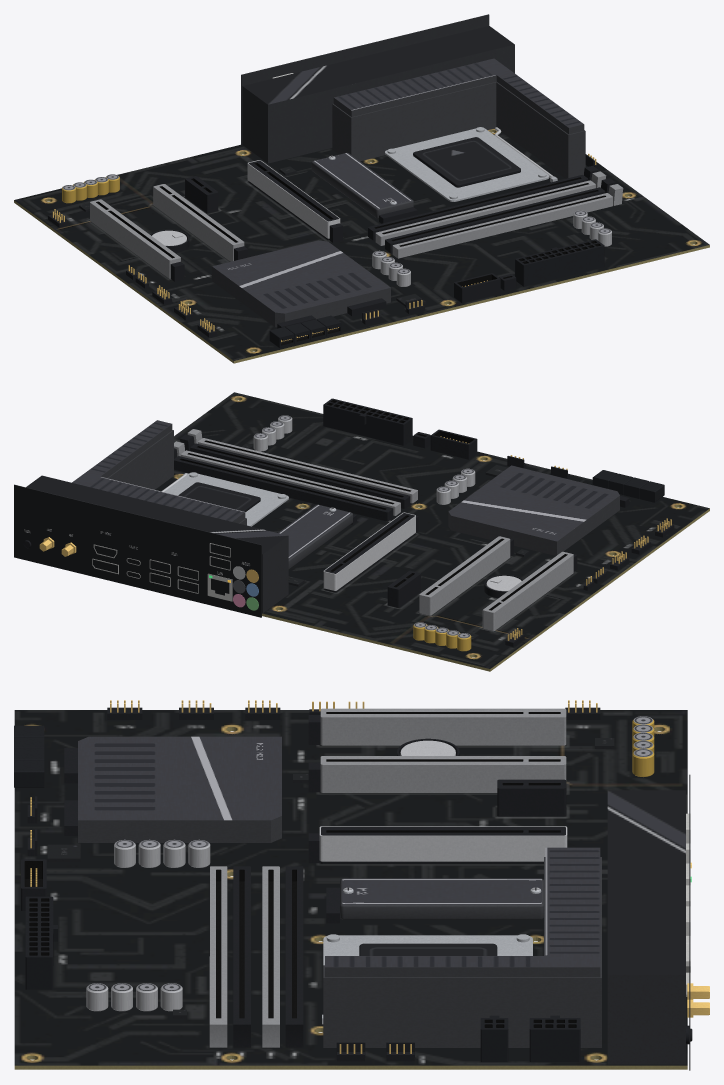
File: motherboard-atx-cc0.glb
3 renders of one model, top to bottom at view 1: azimuth 30°, elevation 25°; view 2: azimuth 150°, elevation 25°; view 3: azimuth 270°, elevation 25°, orthographic. The views are drawn at different scales.
Parts seen in each view (by area): view 1: Printed circuit board, VRM heatsink, Rear I/O cover, Chipset and M.2 heatsink, Socket load frame and plate, DIMM slot B2, M.2 heatsink cover, Socket protective cap, Rear I/O shield, PCIe x16 slot 6, Power connectors (24-pin, 8-pin, 4-pin), PCIe x16 slot 4 (+11 smaller); view 2: Printed circuit board, Rear I/O shield, Chipset and M.2 heatsink, VRM heatsink, Rear I/O cover, DIMM slot A1, PCIe x16 slot 6, PCIe x16 slot 4, Solid capacitors, Power connectors (24-pin, 8-pin, 4-pin), Pin header bases, M.2 heatsink cover (+14 smaller); view 3: Printed circuit board, VRM heatsink, Rear I/O cover, Chipset and M.2 heatsink, PCIe x16 slot 6, PCIe x16 slot 4, M.2 heatsink cover, PCIe slot armour (steel), Power connectors (24-pin, 8-pin, 4-pin), Solid capacitors, Pin header bases, DIMM slot A1 (+14 smaller).
Part boxes in pixels (x1,y1,x2,y2): Printed circuit board: (14, 128, 709, 363); VRM heatsink: (332, 58, 585, 178); Rear I/O cover: (242, 26, 514, 163); Chipset and M.2 heatsink: (212, 240, 390, 327); Socket load frame and plate: (385, 127, 549, 201); DIMM slot B2: (392, 184, 623, 258); M.2 heatsink cover: (311, 152, 413, 218); Socket protective cap: (413, 137, 520, 187); Rear I/O shield: (241, 14, 489, 144); PCIe x16 slot 6: (90, 199, 184, 281); Power connectors (24-pin, 8-pin, 4-pin): (515, 239, 604, 286); PCIe x16 slot 4: (153, 184, 247, 261); Printed circuit board: (155, 392, 709, 671); Rear I/O shield: (14, 484, 261, 617); Chipset and M.2 heatsink: (448, 465, 619, 555); VRM heatsink: (72, 420, 246, 525); Rear I/O cover: (26, 475, 288, 612); DIMM slot A1: (174, 448, 393, 521); PCIe x16 slot 6: (482, 551, 577, 631); PCIe x16 slot 4: (419, 536, 513, 615); Solid capacitors: (253, 415, 475, 651); Power connectors (24-pin, 8-pin, 4-pin): (323, 398, 412, 445); Pin header bases: (413, 429, 674, 646); M.2 heatsink cover: (278, 504, 352, 569); Printed circuit board: (14, 710, 687, 1069); VRM heatsink: (323, 847, 601, 1047); Rear I/O cover: (607, 790, 685, 1064); Chipset and M.2 heatsink: (78, 736, 281, 842); PCIe x16 slot 6: (308, 708, 566, 745); PCIe x16 slot 4: (308, 756, 566, 792); M.2 heatsink cover: (340, 878, 543, 919); PCIe slot armour (steel): (319, 826, 567, 861); Power connectors (24-pin, 8-pin, 4-pin): (25, 896, 580, 1061); Solid capacitors: (86, 716, 654, 1011); Pin header bases: (21, 707, 600, 1061); DIMM slot A1: (285, 866, 303, 1047).
Bounding box in the file's own units: 0.305 × 0.0445 × 0.2523.
44 materials, 44 textured.
